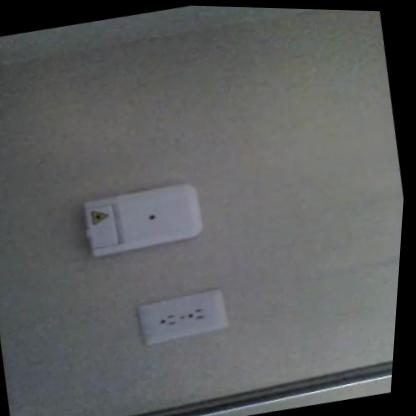OUTLET: (134, 287, 229, 347)
